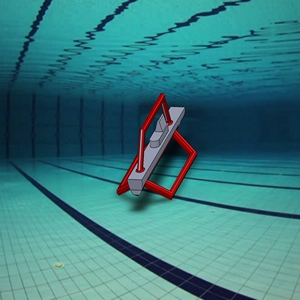submarine: (113, 91, 207, 205)
